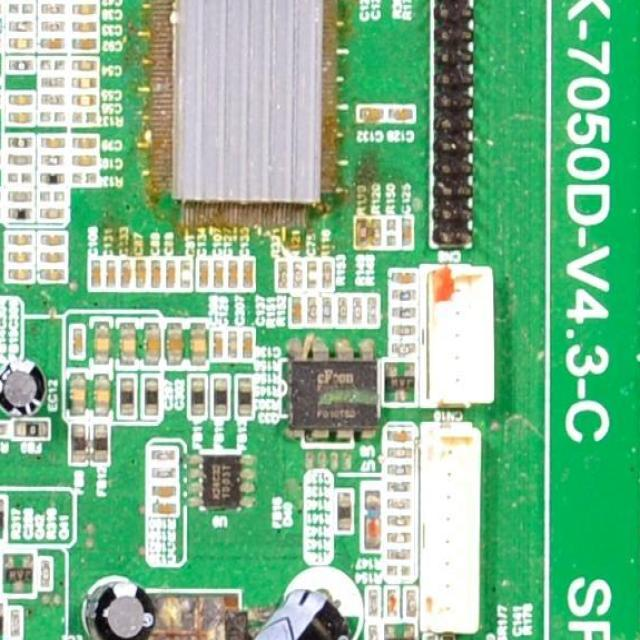IC: (179, 0, 317, 201), (292, 365, 361, 424), (204, 460, 236, 506)
capacitor: (148, 330, 160, 364), (356, 107, 378, 121), (96, 329, 106, 357), (309, 260, 318, 289), (390, 106, 410, 119), (226, 259, 236, 285), (72, 331, 83, 354), (121, 331, 130, 358), (239, 335, 250, 357), (74, 382, 84, 406), (288, 298, 299, 319), (194, 328, 202, 356), (153, 486, 185, 493), (196, 261, 206, 283), (388, 592, 398, 614), (89, 261, 98, 282), (8, 114, 31, 122), (404, 217, 410, 247), (98, 384, 105, 409), (49, 231, 62, 244), (172, 329, 178, 357), (226, 334, 234, 355), (392, 269, 408, 279), (388, 433, 408, 441), (136, 262, 143, 284), (183, 262, 190, 284), (44, 191, 59, 201), (8, 96, 29, 103), (76, 60, 92, 69), (78, 156, 90, 168), (10, 192, 28, 200), (110, 263, 117, 282), (77, 91, 93, 99), (44, 272, 60, 280), (154, 264, 160, 285), (246, 261, 251, 286), (18, 42, 33, 50), (46, 251, 61, 259), (214, 335, 220, 355), (155, 504, 172, 511), (77, 4, 91, 12), (12, 235, 28, 242), (82, 23, 94, 32), (46, 139, 58, 148), (123, 265, 129, 283), (167, 264, 172, 284), (47, 38, 59, 46), (81, 39, 93, 47), (75, 138, 88, 145), (15, 273, 28, 279), (216, 265, 220, 284), (77, 78, 89, 84), (46, 209, 58, 214), (14, 252, 24, 256)
resistor: (403, 590, 414, 617), (368, 302, 377, 330), (368, 590, 377, 617), (34, 23, 60, 31), (386, 515, 407, 524), (40, 562, 49, 583), (394, 308, 413, 317), (38, 76, 55, 86), (359, 221, 366, 243), (80, 114, 95, 124), (154, 445, 170, 454), (41, 6, 63, 12), (44, 112, 58, 121), (390, 482, 404, 491), (392, 565, 410, 572), (14, 9, 26, 19), (354, 298, 360, 318), (395, 343, 415, 349), (390, 449, 407, 456), (387, 497, 404, 504), (152, 468, 170, 474), (11, 22, 26, 29), (15, 154, 28, 162), (341, 298, 346, 318), (8, 61, 22, 68), (395, 290, 411, 296), (325, 264, 330, 283), (388, 217, 392, 240), (393, 552, 408, 558), (395, 328, 412, 333), (46, 95, 58, 102), (325, 302, 329, 322), (370, 218, 374, 237), (313, 301, 317, 320), (392, 536, 410, 540), (389, 469, 406, 473), (371, 627, 376, 640), (442, 638, 451, 640), (0, 424, 3, 430)
transistor: (385, 362, 415, 399), (3, 557, 29, 593), (386, 631, 411, 640)
